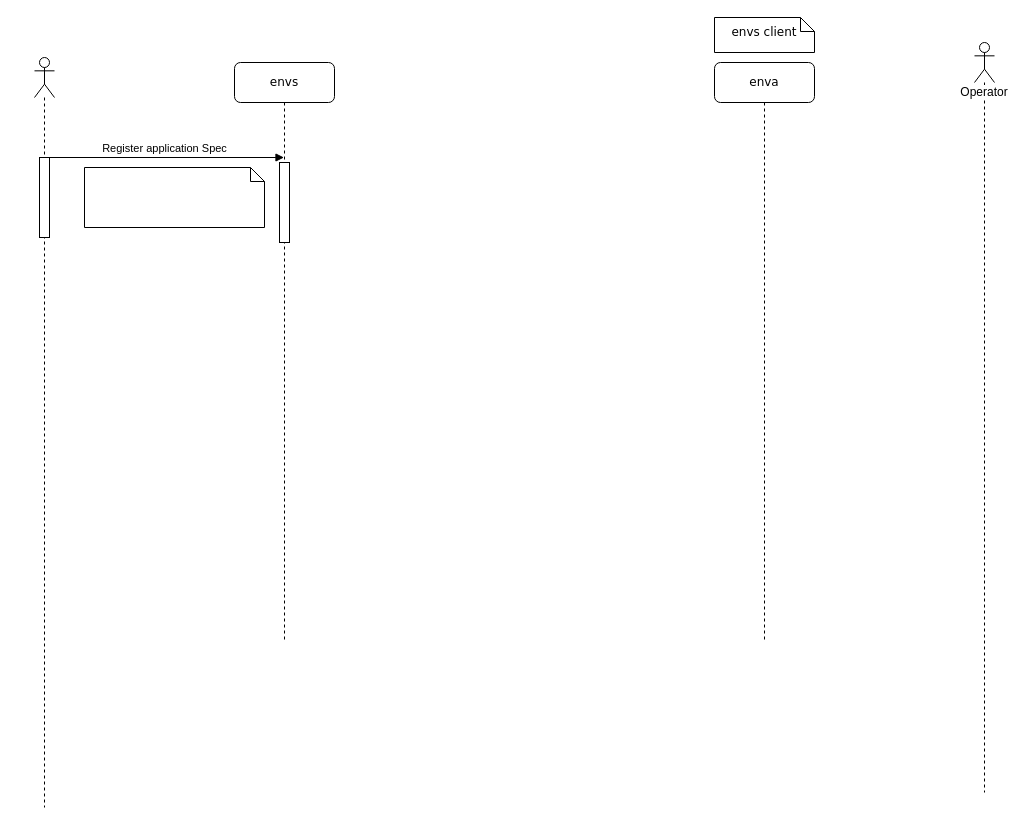
Image size: 1025x825. Some labels were removed from this diagram. Here are the shapes that lost their labels. From the top down, the box of each, then its label:
(84, 166, 264, 228): - docker start script - docker-compose yaml - k8s deployment yaml - helm yaml
(34, 56, 54, 808): Developer
